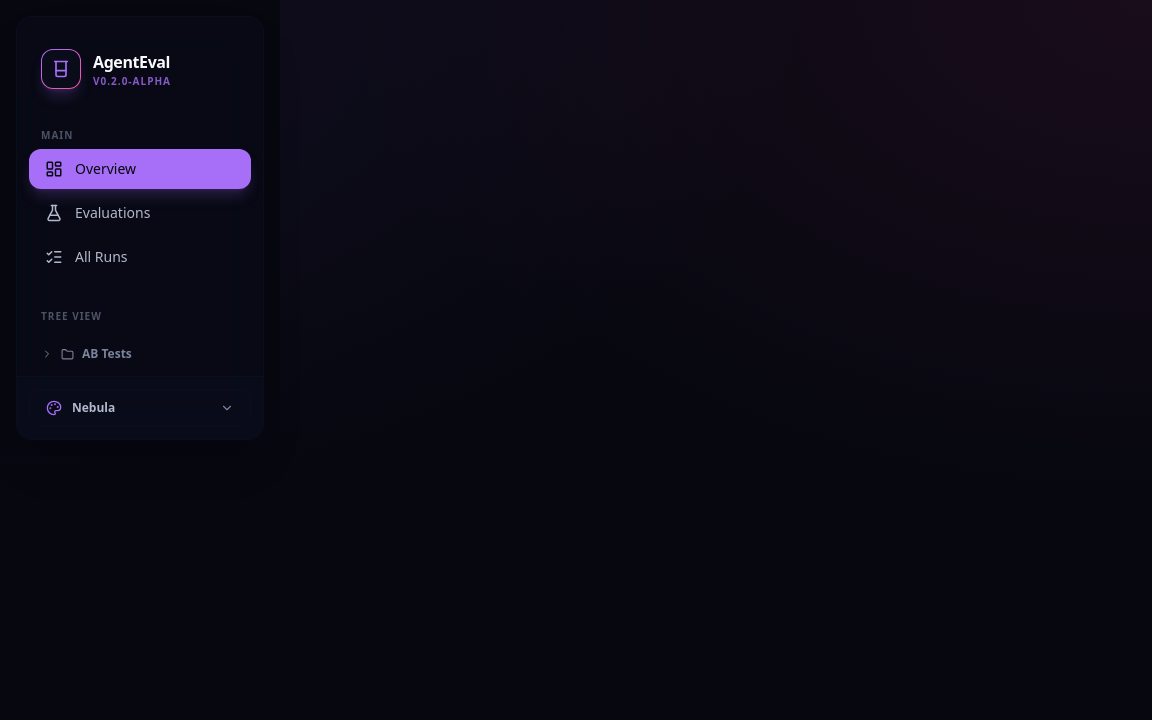
Scenario: Sidebar › fetches and renders tree with suite nodes and test links
The image size is (1152, 720).
Expected: the text "AB Tests" is shown, [82,345,132,362]
# Expand it to see tests
Click the button "AB Tests" at (138, 354), box [29,340,247,368]
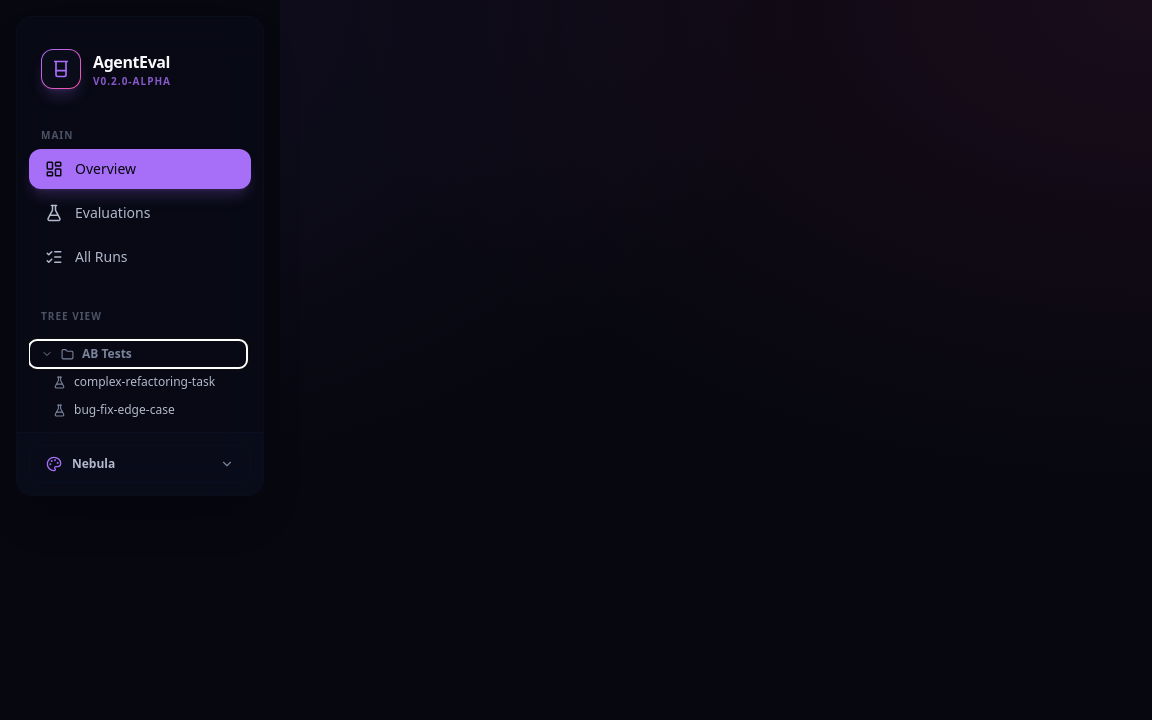
Now the text "complex-refactoring-task" is shown, box [74,373,215,390]
